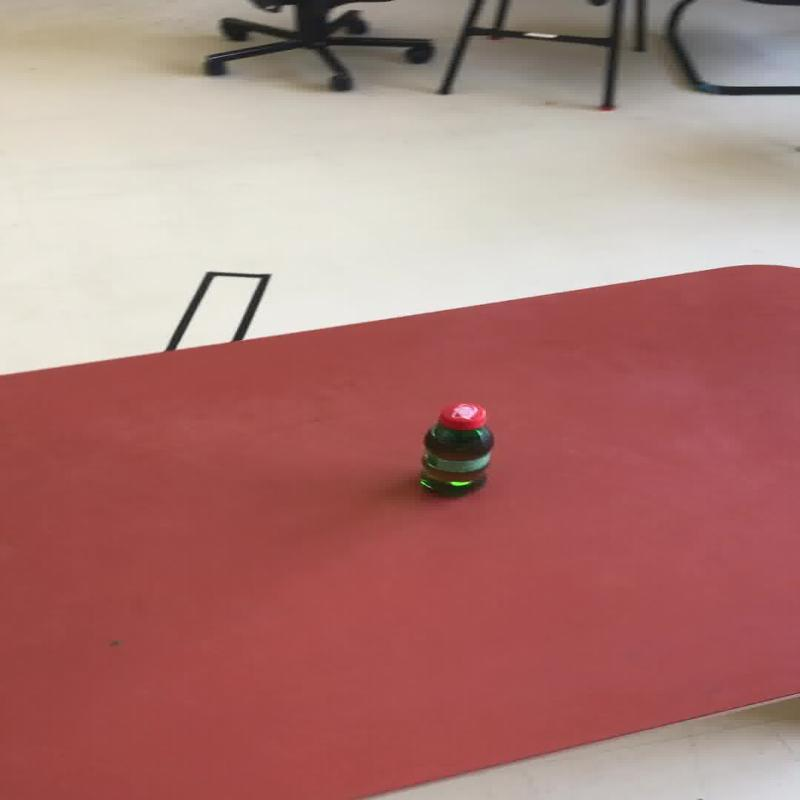guarana: (415, 401, 494, 495)
